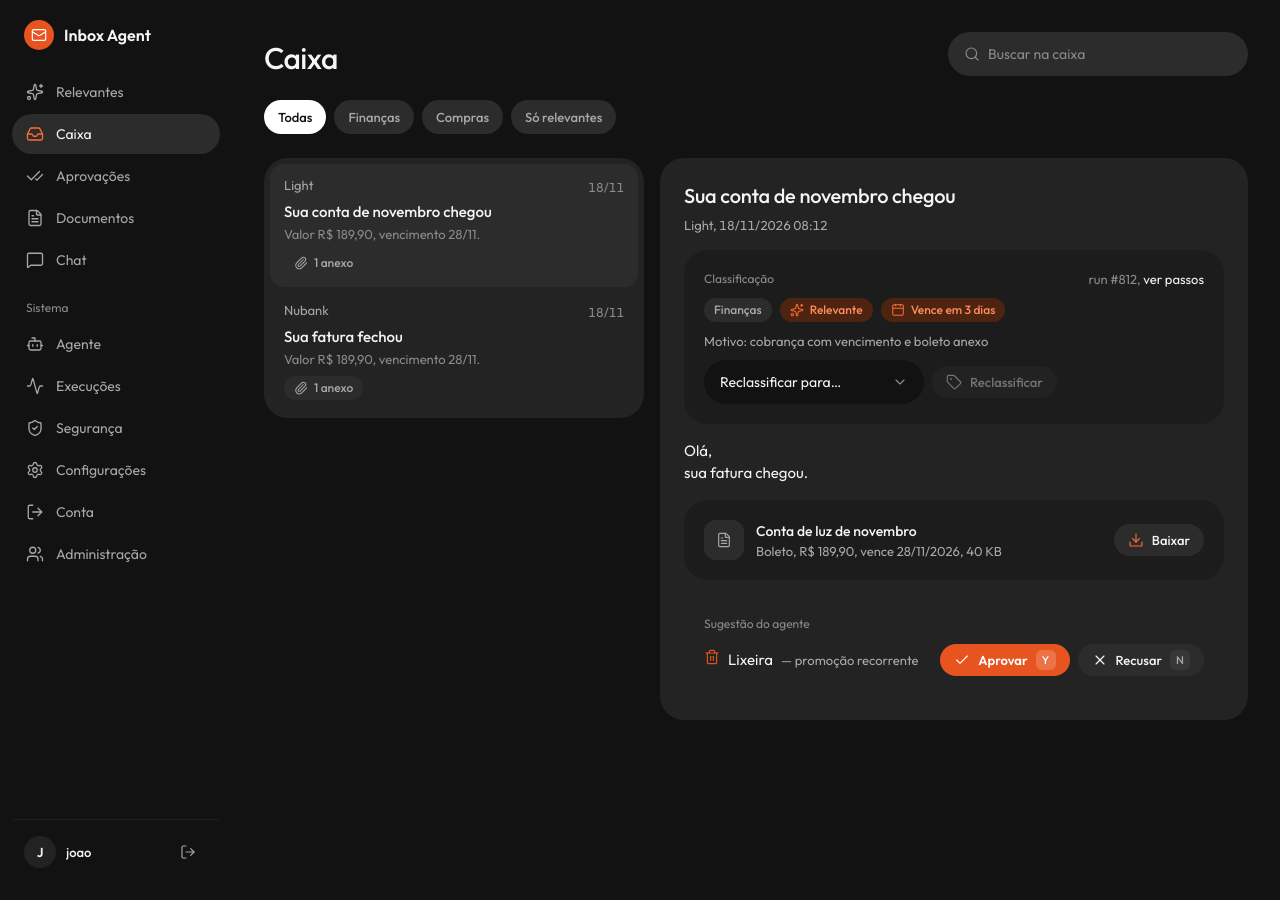
Test: opens_first_email_by_default_and_switches_on_click
Expected: the heading "Sua conta de novembro chegou" is shown, [684,182,955,210]
Step 1. Click the link "Sua fatura fechou" → point(454, 350), box [270,289,638,412]
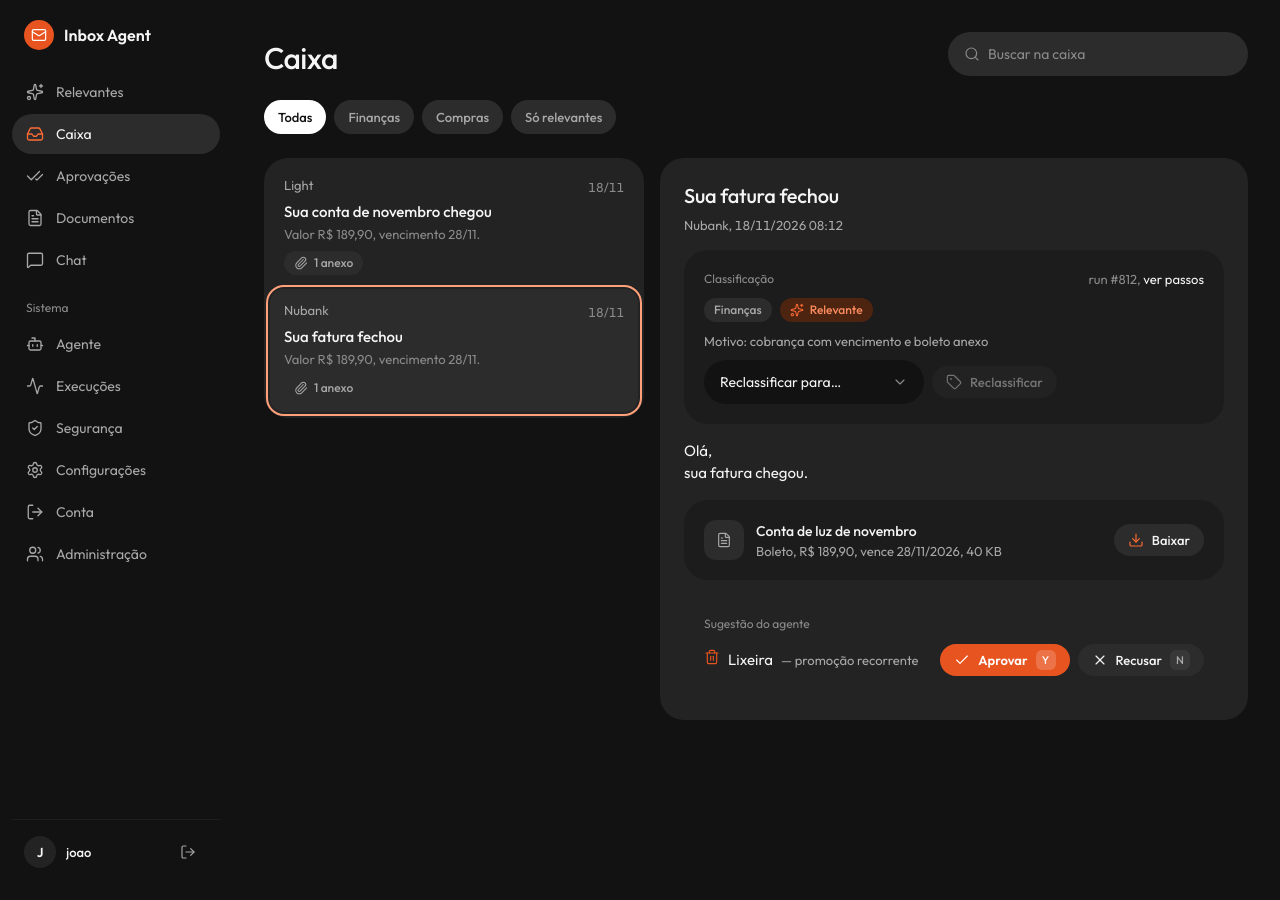
Expected: the heading "Sua fatura fechou" is shown, [684,182,843,210]
